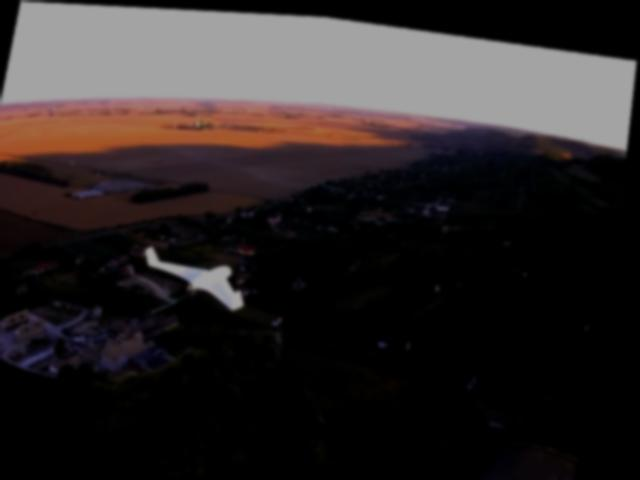plane: (142, 242, 260, 309)
